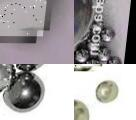ironball: (0, 74, 48, 117), (0, 0, 50, 35), (74, 0, 94, 47), (94, 78, 118, 103), (0, 64, 13, 89), (99, 25, 118, 42), (74, 99, 90, 119), (8, 64, 51, 71), (96, 46, 112, 60), (75, 48, 90, 62), (106, 55, 126, 64), (87, 57, 103, 64)
